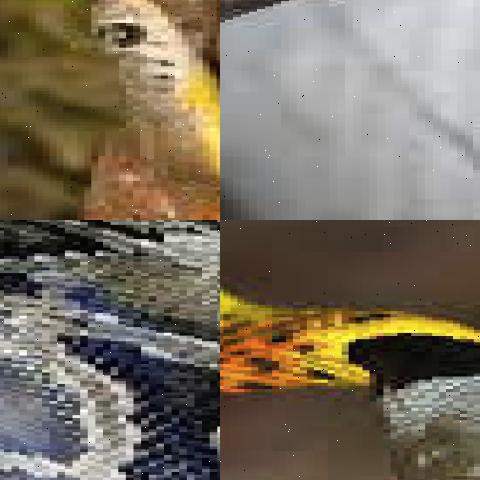1: (220, 0, 480, 220)
2: (220, 220, 480, 480), (0, 0, 220, 220)
snake: (0, 220, 220, 480)
